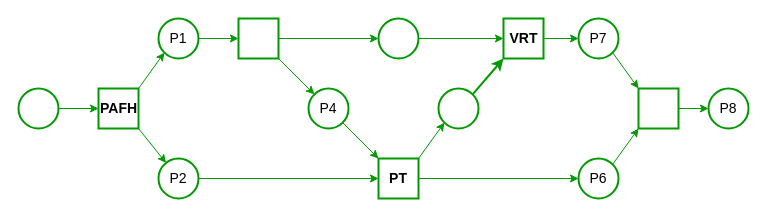
Some shapes in this 766 by 216 pixel diagram are drawn without their labels. Each missing label, with the centre of its shape:
"P0" goes at point 38,108.
"P3" goes at point 398,38.
"P5" goes at point 458,108.
"PIA" goes at point 258,38.
"TPB" goes at point 658,108.
